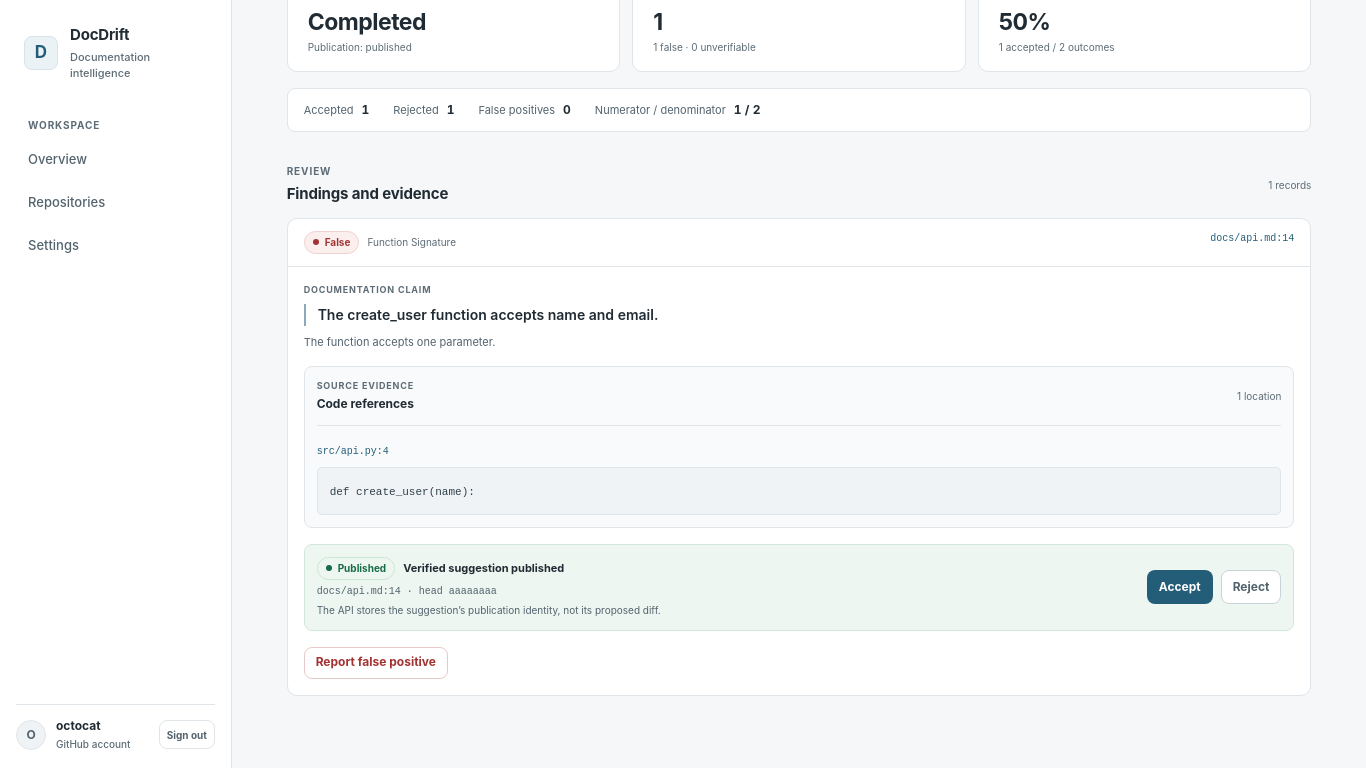
Scenario: dashboard › shows finding claim, source evidence, and records suggestion feedback
(page scrolled)
Expected: the text "The create_user function accepts name and email." is shown, [304,304,1294,326]
Expected: the text "def create_user(name):" is shown, [330,486,475,498]
Click the button "Accept": point(1180, 587) [1147,570,1213,604]
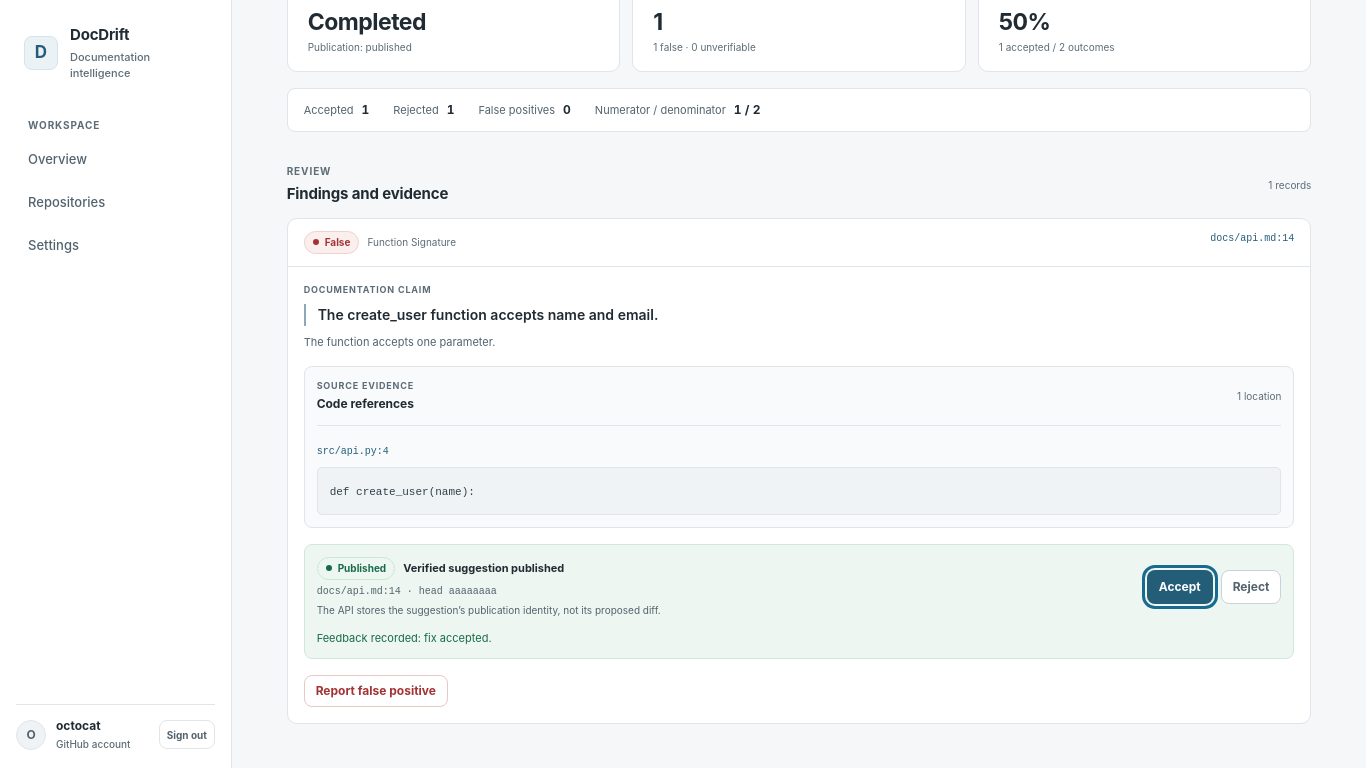
Now the text "Feedback recorded: fix accepted." is shown, box [317,630,492,644]
